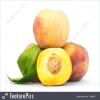Peach leaf: (5, 62, 38, 83), (18, 45, 40, 76)
